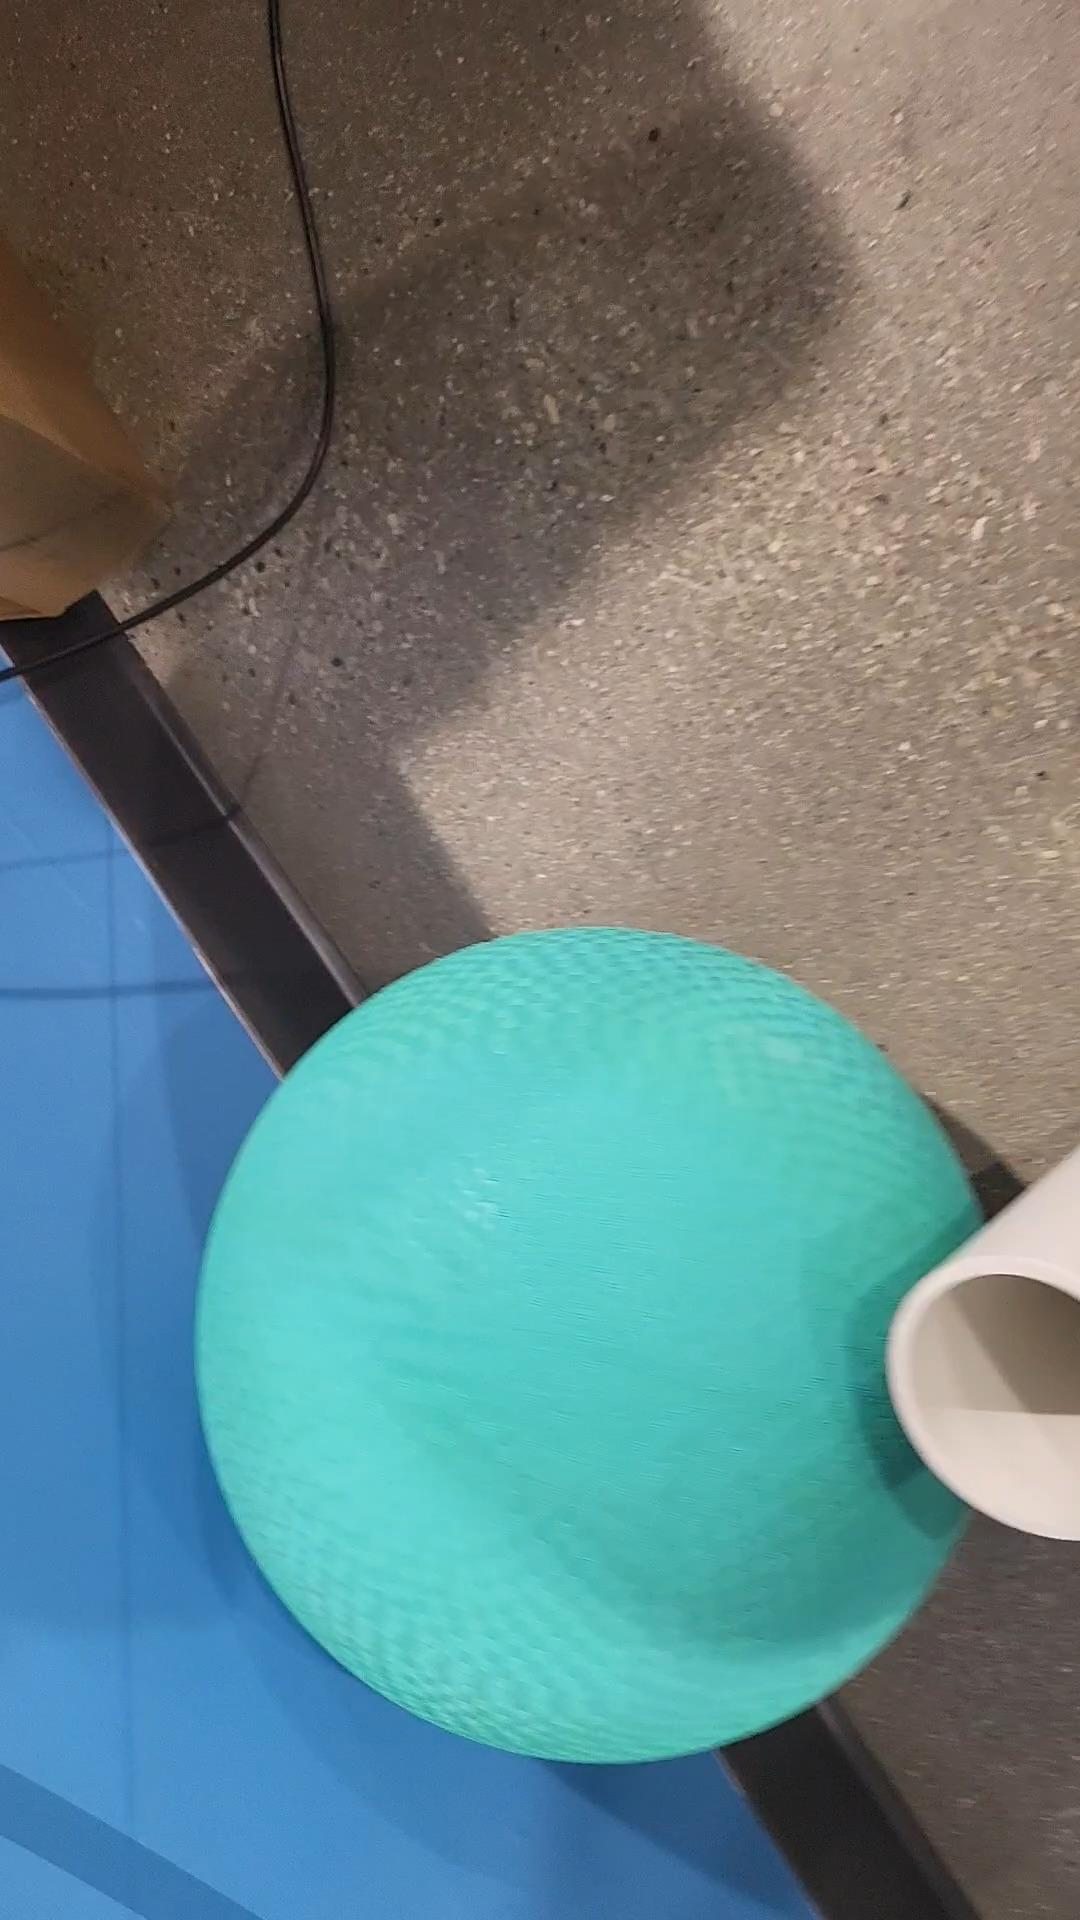algae: (190, 924, 996, 1770)
coral: (893, 1139, 1080, 1549)
